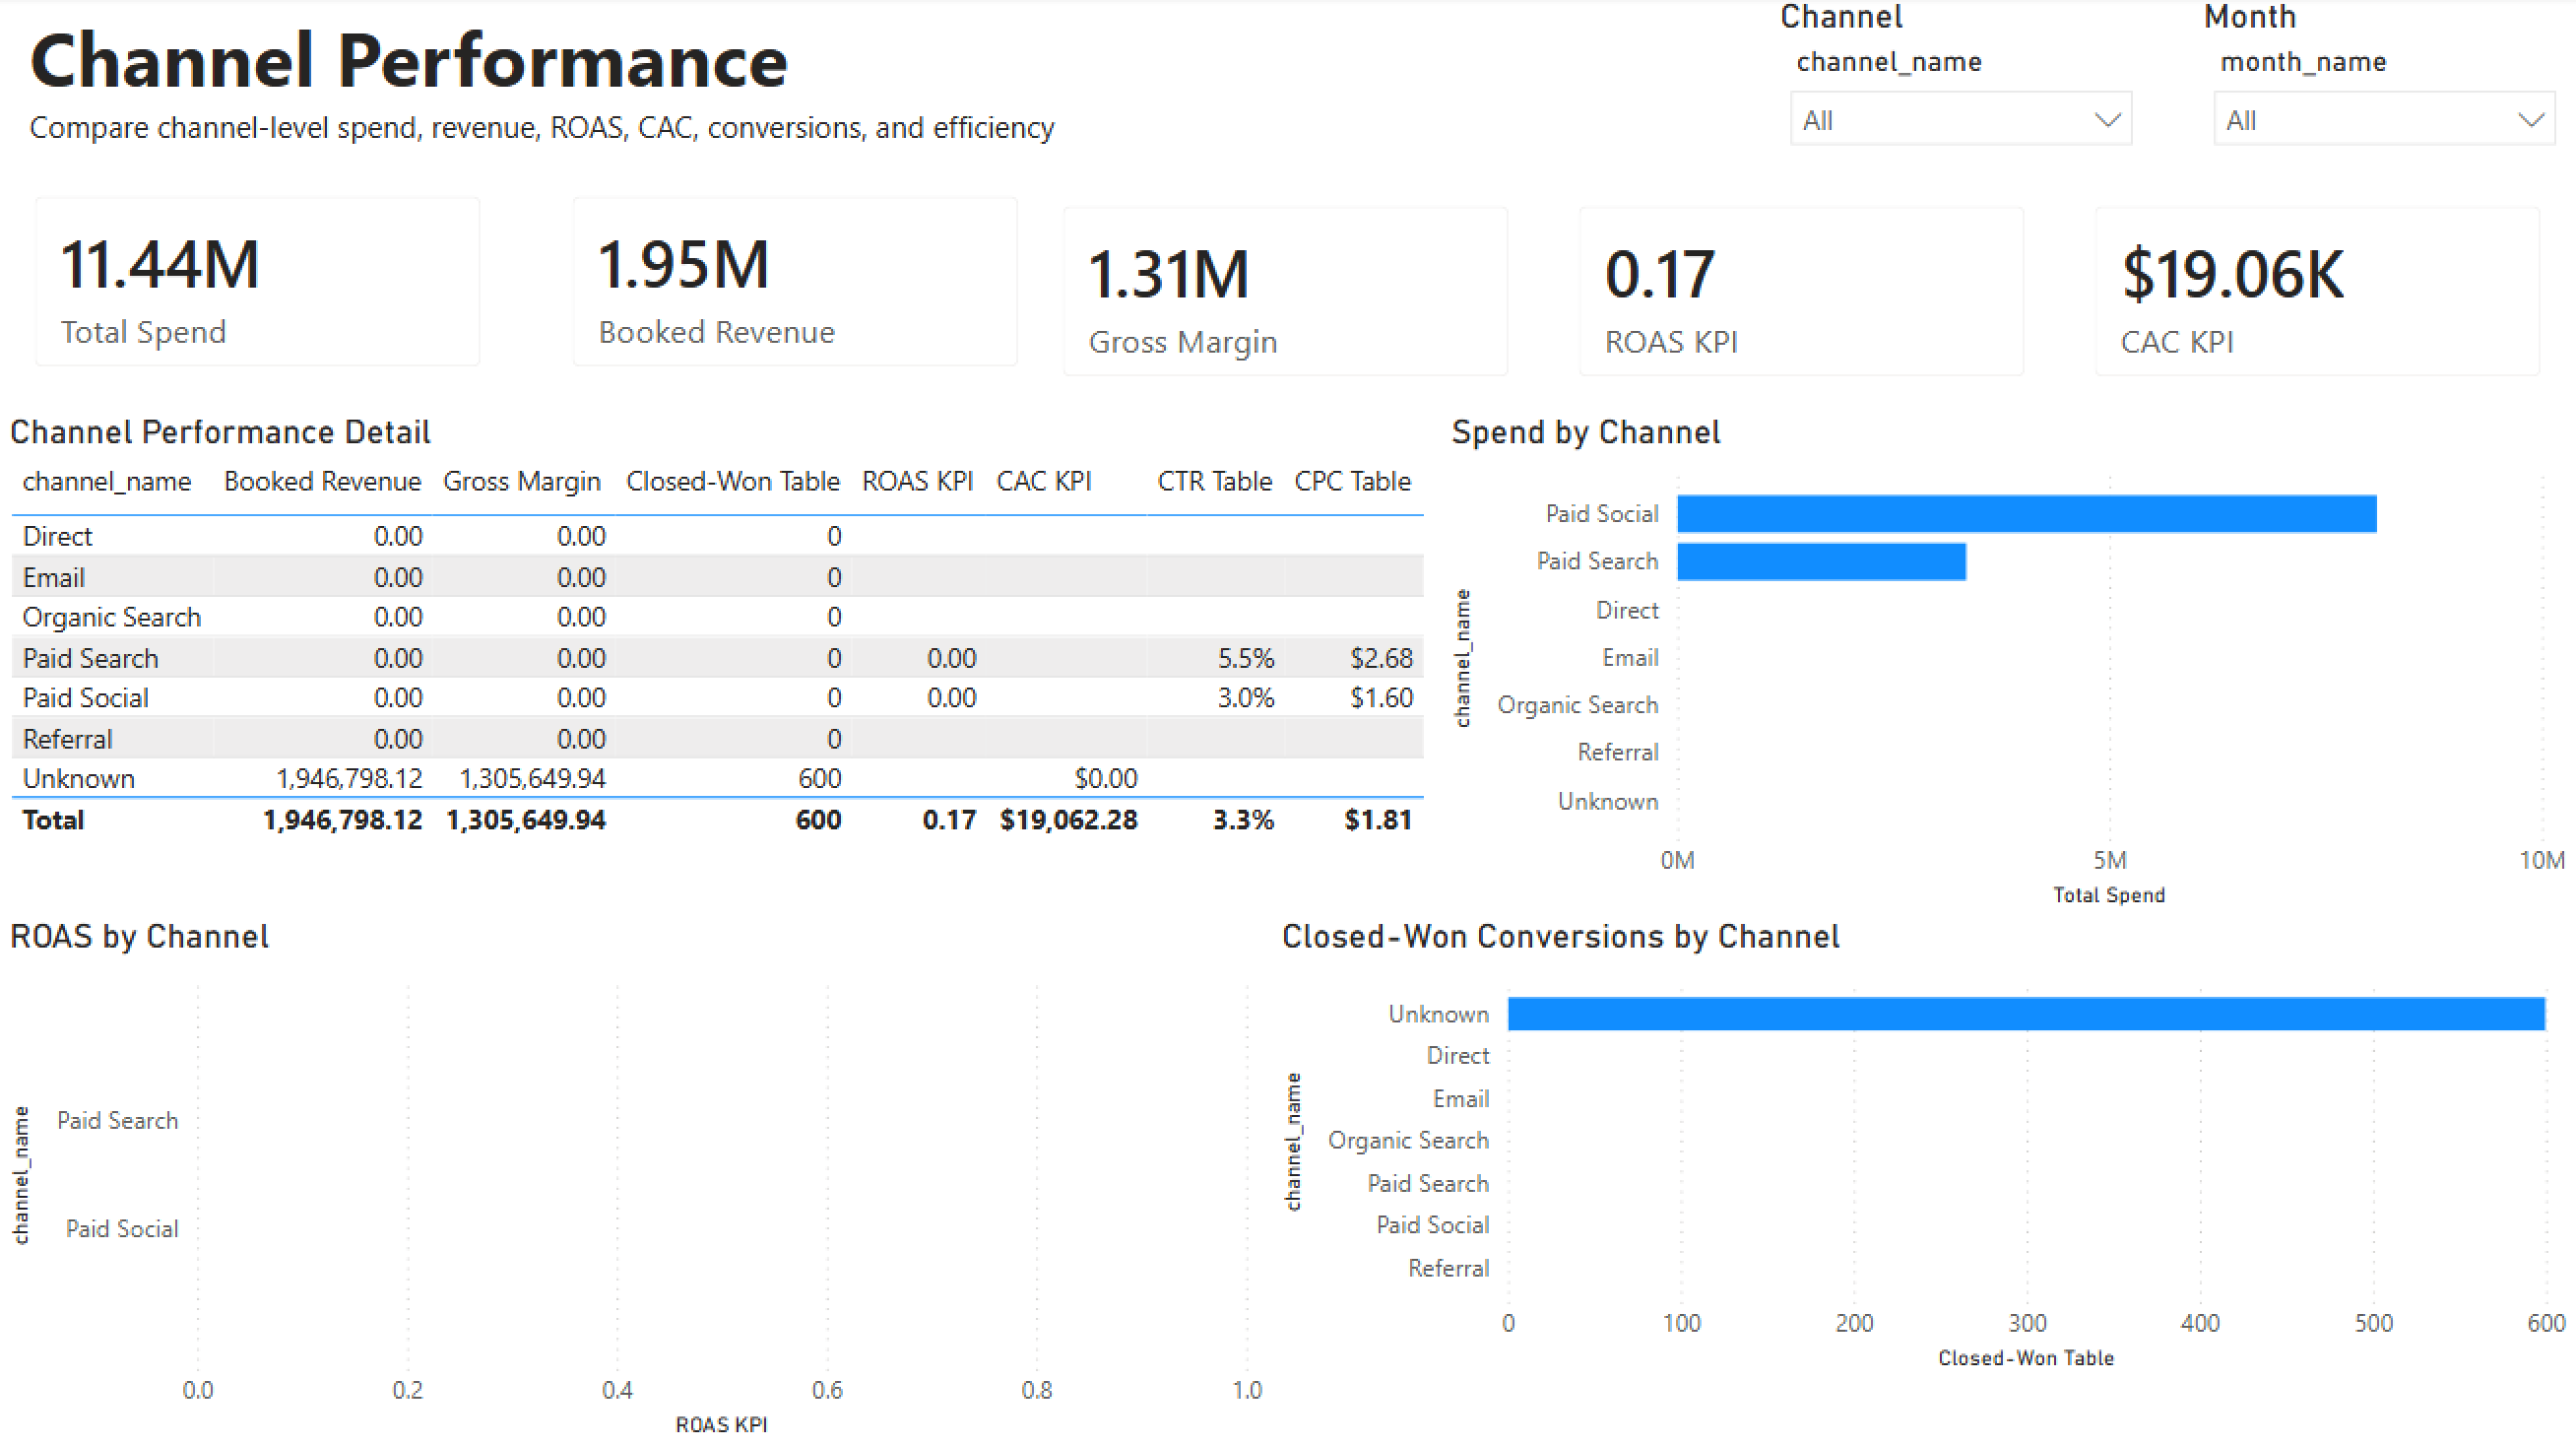

This screenshot's page, from the dashboard's own definition file:
{"tool":"powerbi","page":{"name":"Channel Performance","canvas":[1280,720],"ordinal":1},"visuals":[{"type":"textbox","box":[9.8,0,869.7,82.2],"z":0},{"type":"slicer","title":"Month","fields":{"Values":["dim_date.month_name"]},"box":[1089.7,0,190.3,87.5],"z":1000},{"type":"slicer","title":"Channel","fields":{"Values":["dim_channel.channel_name"]},"box":[879.1,0,190.3,87.5],"z":2000},{"type":"cardVisual","fields":{"Data":["mart_channel_performance.Total Spend"]},"box":[0,82.4,256.4,119],"z":3000},{"type":"cardVisual","fields":{"Data":["mart_channel_performance.Booked Revenue"]},"box":[266.6,82.4,256.4,119],"z":4000},{"type":"cardVisual","fields":{"Data":["mart_channel_performance.Gross Margin"]},"box":[510.8,87.5,256.4,119],"z":5000},{"type":"cardVisual","fields":{"Data":["mart_channel_performance.ROAS KPI"]},"box":[767.2,87.5,256.4,119],"z":6000},{"type":"cardVisual","fields":{"Data":["mart_channel_performance.CAC KPI"]},"box":[1023.6,87.5,256.4,119],"z":7000},{"type":"tableEx","title":"Channel Performance Detail","fields":{"Values":["mart_channel_performance.channel_name","mart_channel_performance.Booked Revenue","mart_channel_performance.Gross Margin","mart_channel_performance.Closed-Won Table","mart_channel_performance.ROAS KPI","mart_channel_performance.CAC KPI","mart_channel_performance.CTR Table","mart_channel_performance.CPC Table"]},"box":[0,206.4,716.1,250.4],"z":8000},{"type":"clusteredBarChart","title":"Spend by Channel","fields":{"Category":["mart_channel_performance.channel_name"],"Y":["mart_channel_performance.Total Spend"]},"box":[716.1,206.4,563.5,250.4],"z":9000},{"type":"clusteredBarChart","title":"ROAS by Channel","fields":{"Category":["mart_channel_performance.channel_name"],"Y":["mart_channel_performance.ROAS KPI"]},"box":[0,456.8,632,263.2],"z":10000},{"type":"clusteredBarChart","title":"Closed-Won Conversions by Channel","fields":{"Category":["mart_channel_performance.channel_name"],"Y":["mart_channel_performance.Closed-Won Table"]},"box":[632,456.8,647.6,229.9],"z":11000}]}

Visuals, with their boxes in screenshot pixels (x1, y1, x2, y2), scaled from the page's 1280x720 canvas onto the 2576x1446 screenshot:
textbox: (x1=20, y1=0, x2=1770, y2=165)
"Month" slicer: (x1=2193, y1=0, x2=2575, y2=175)
"Channel" slicer: (x1=1770, y1=0, x2=2153, y2=175)
cardVisual - mart_channel_performance.Total Spend: (x1=0, y1=165, x2=516, y2=405)
cardVisual - mart_channel_performance.Booked Revenue: (x1=537, y1=165, x2=1053, y2=405)
cardVisual - mart_channel_performance.Gross Margin: (x1=1028, y1=175, x2=1544, y2=415)
cardVisual - mart_channel_performance.ROAS KPI: (x1=1544, y1=175, x2=2060, y2=415)
cardVisual - mart_channel_performance.CAC KPI: (x1=2060, y1=175, x2=2575, y2=415)
"Channel Performance Detail" tableEx: (x1=0, y1=415, x2=1442, y2=917)
"Spend by Channel" clusteredBarChart: (x1=1442, y1=415, x2=2575, y2=917)
"ROAS by Channel" clusteredBarChart: (x1=0, y1=917, x2=1272, y2=1445)
"Closed-Won Conversions by Channel" clusteredBarChart: (x1=1272, y1=917, x2=2575, y2=1379)
